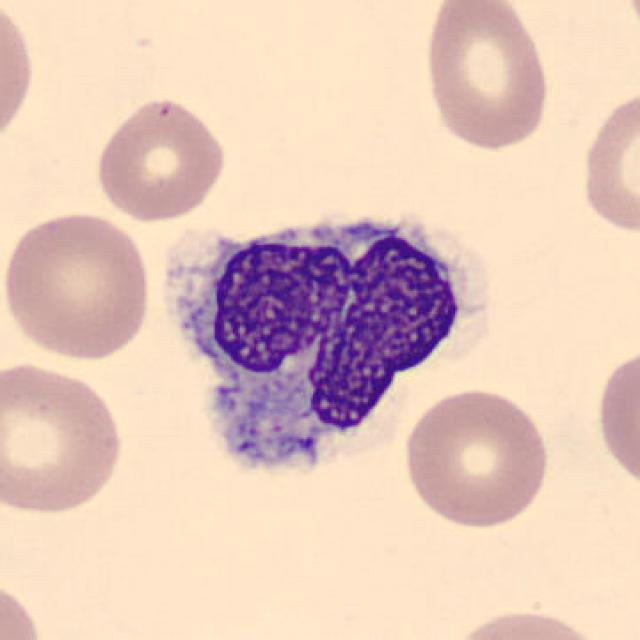Monocyte: (142, 192, 500, 496)
RBC: (0, 206, 156, 363), (398, 384, 553, 531), (420, 0, 554, 155), (0, 358, 128, 520), (91, 93, 229, 224), (576, 81, 640, 240), (592, 340, 638, 497), (442, 604, 611, 640), (0, 0, 37, 153), (0, 573, 48, 640), (617, 0, 640, 51)
